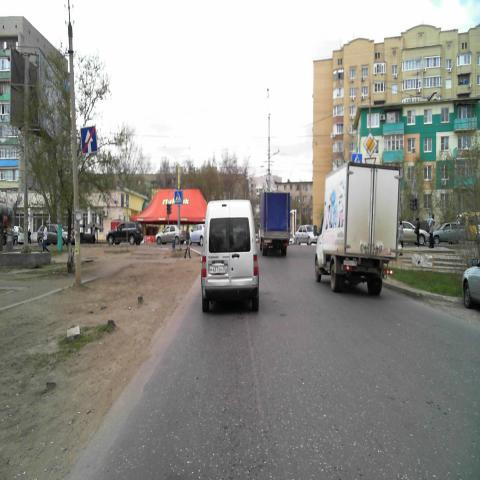2_2: (363, 133, 377, 155)
5_19_1: (174, 190, 182, 204)
5_6: (80, 126, 97, 153)
